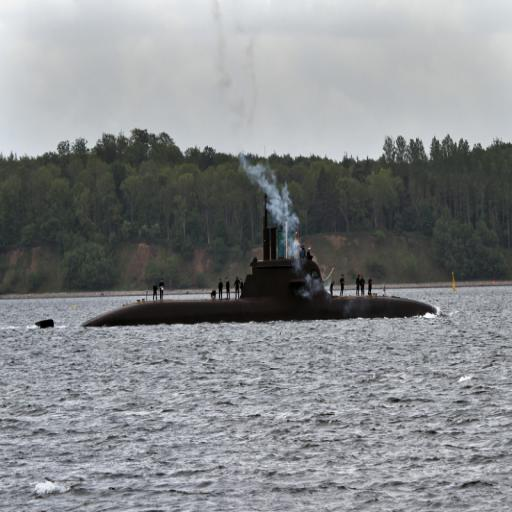submarine: (82, 221, 440, 328)
